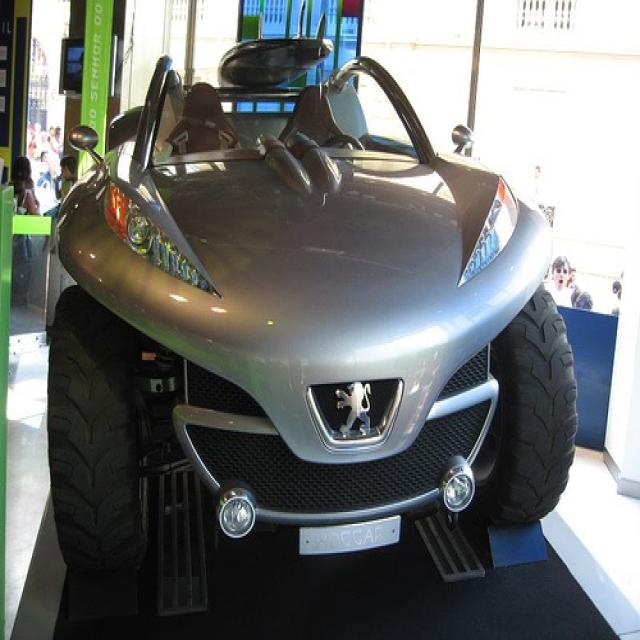car: (44, 17, 578, 597)
